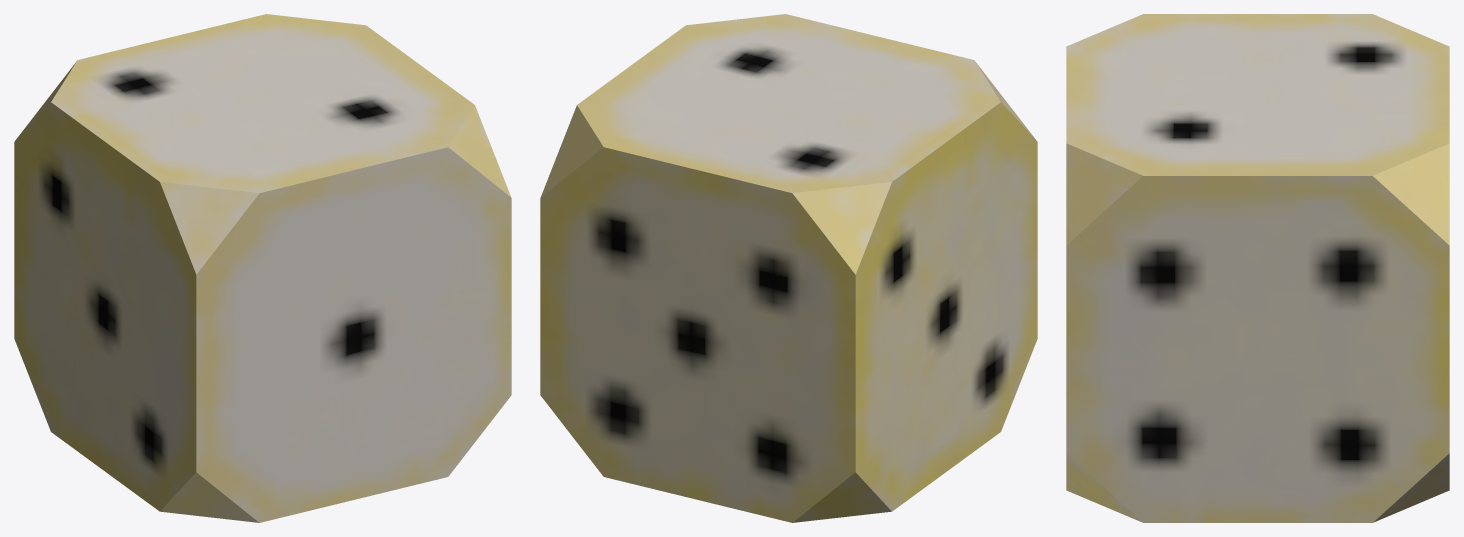
Rendered from SM_Souvenirs01J.FBX.
3 views of the same model, side by side, from view 1: azimuth 30°, elevation 25°; view 2: azimuth 150°, elevation 25°; view 3: azimuth 270°, elevation 25° (orthographic). The views are drawn at different scales.
Visible parts, largest first — view 1: SM_Souvenirs01J_LOD0; view 2: SM_Souvenirs01J_LOD0; view 3: SM_Souvenirs01J_LOD0.
Part boxes in pixels (x1,y1,x2,y2): SM_Souvenirs01J_LOD0: (14, 14, 511, 522); SM_Souvenirs01J_LOD0: (540, 14, 1037, 522); SM_Souvenirs01J_LOD0: (1066, 14, 1449, 522).
Bounding box in the file's own units: 2.33 × 2.33 × 2.33.
